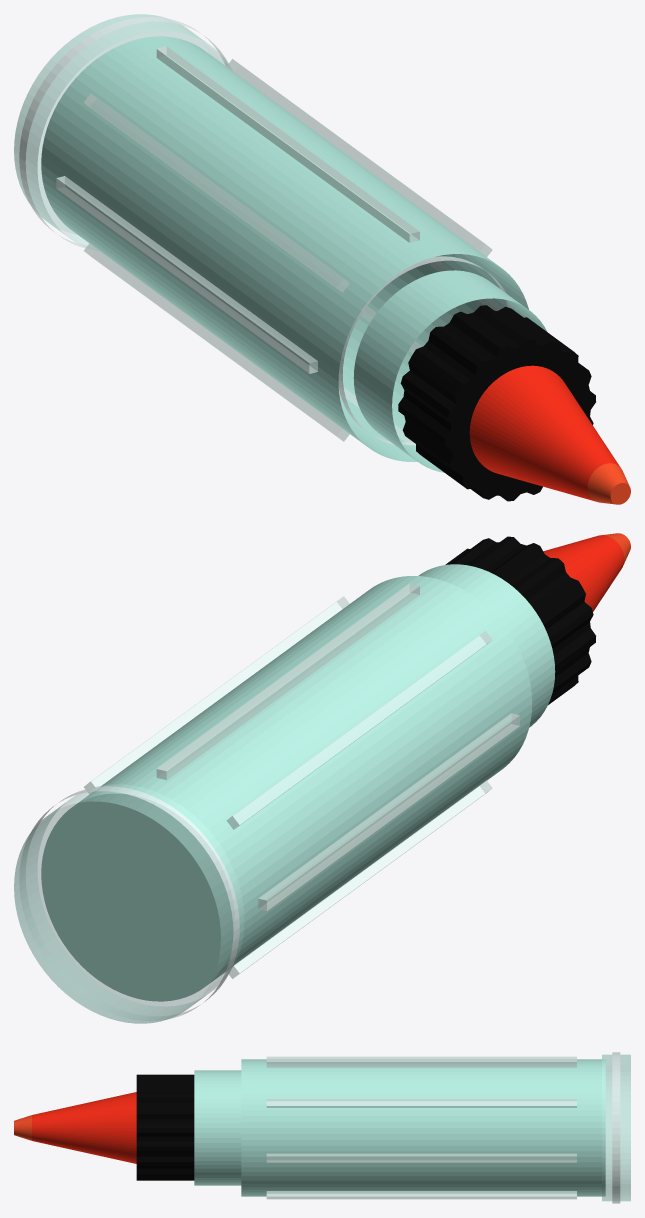
The model's file is transparent_nozzle_bottle_v1.obj.
The picture shows the model from 3 angles, top to bottom: view 1: azimuth 30°, elevation 25°; view 2: azimuth 150°, elevation 25°; view 3: azimuth 270°, elevation 25°; orthographic projection. The views are drawn at different scales.
Visible parts, largest first — view 1: transparent_nozzle_bottle_v1; view 2: transparent_nozzle_bottle_v1; view 3: transparent_nozzle_bottle_v1.
Boxes of the visible parts, x1,y1,x2,y2 form: transparent_nozzle_bottle_v1: (14, 14, 630, 504); transparent_nozzle_bottle_v1: (14, 533, 630, 1023); transparent_nozzle_bottle_v1: (14, 1052, 630, 1203).
Bounding box in the file's own units: 42 × 42 × 171.
